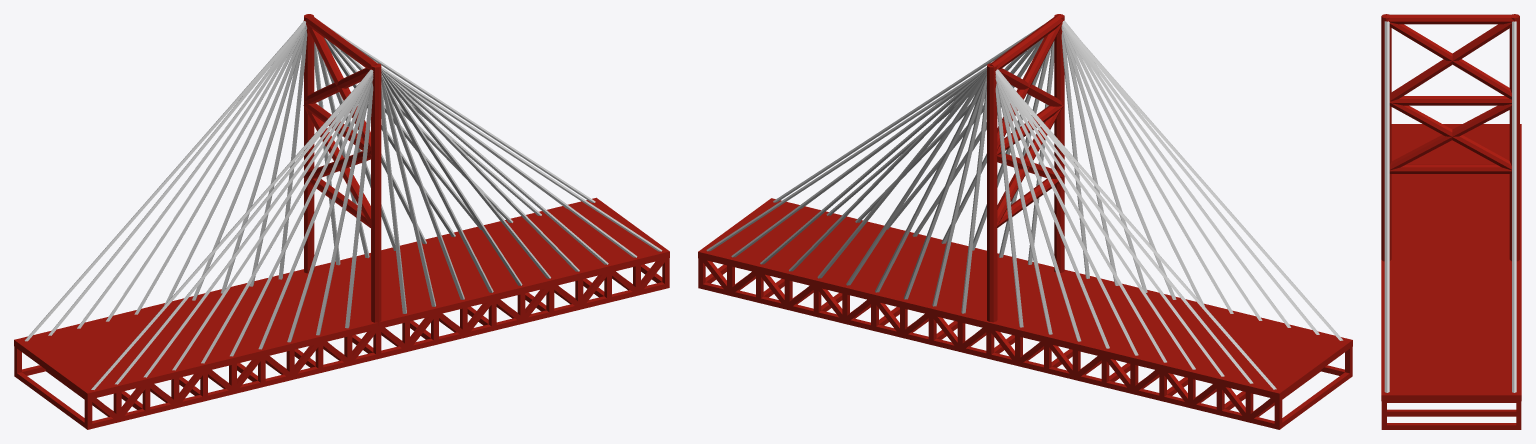
File: onepointsuspensionbridge.obj
3 renders of one model, left to right at view 1: azimuth 30°, elevation 25°; view 2: azimuth 150°, elevation 25°; view 3: azimuth 270°, elevation 25°, orthographic. The views are drawn at different scales.
Visible parts, largest first — view 1: Cube_Cube.003; view 2: Cube_Cube.003; view 3: Cube_Cube.003.
Boxes of the visible parts, x1=… form: Cube_Cube.003: x1=14, y1=14, x2=669, y2=429; Cube_Cube.003: x1=698, y1=14, x2=1352, y2=429; Cube_Cube.003: x1=1381, y1=14, x2=1521, y2=429.
Bounding box in the file's own units: 20 × 9.61 × 4.37.
